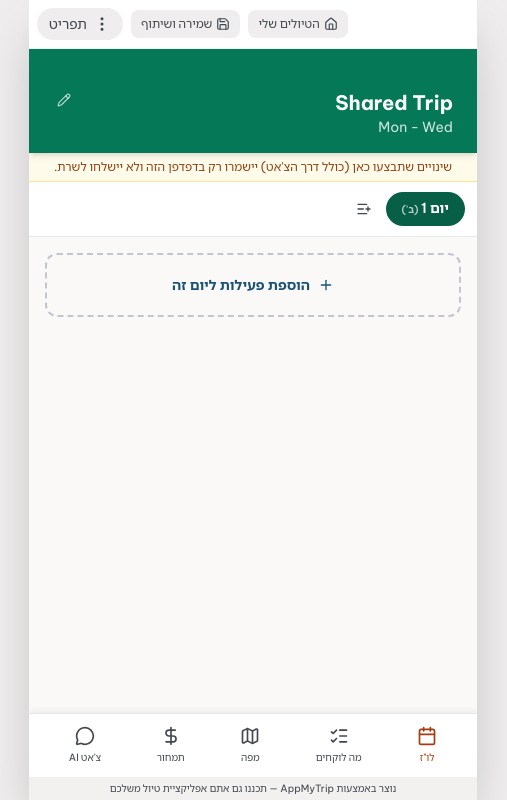
it: App shared-trip viewer activity enrichment › enriches an activity the chat agent adds on a shared link
The width and height of the screenshot is (507, 800).
Check: the heading "Shared Trip" is shown, box left=335, top=89, right=453, bottom=117
Click the button "צ'אט AI" at (85, 746), box left=69, top=726, right=101, bottom=765
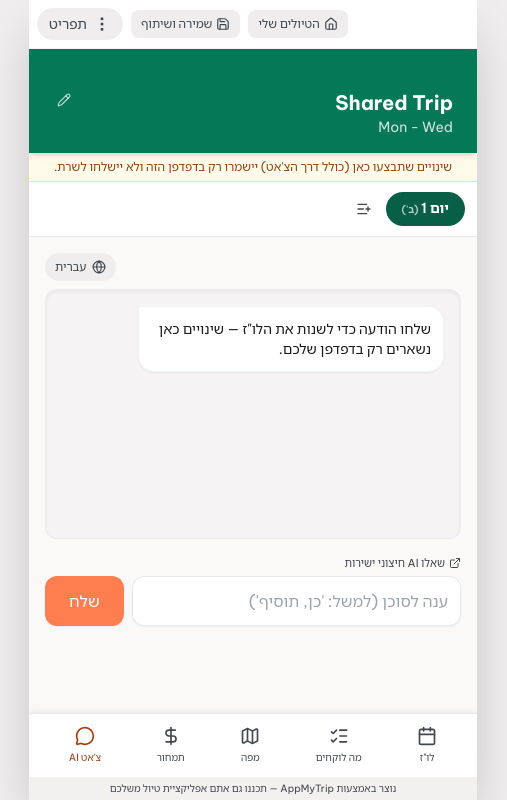
Type "תוסיף מסעדה" into the field with placeholder "ענה לסוכן (למשל: 'כן, תוסיף')" at (296, 600), box left=132, top=576, right=461, bottom=626
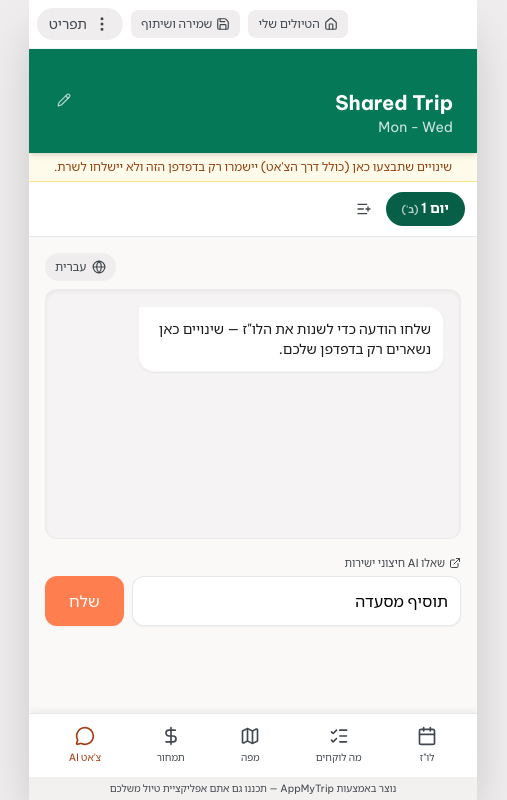
Submit the form with placeholder "ענה לסוכן", box left=45, top=576, right=461, bottom=626
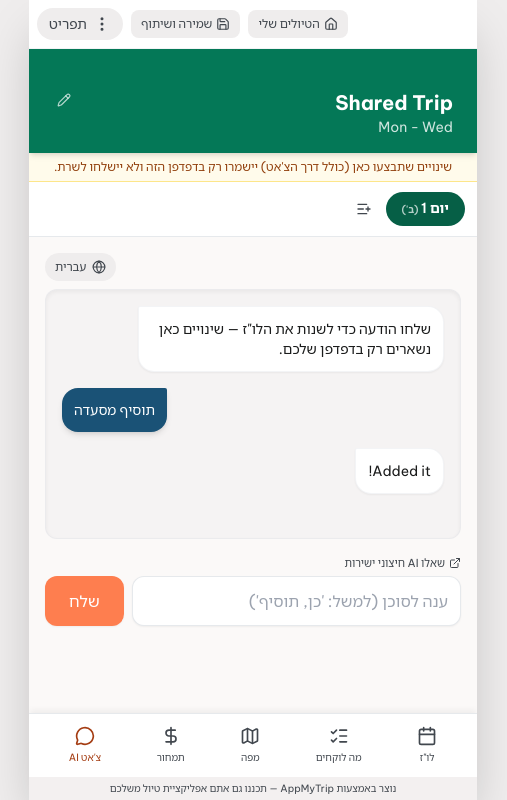
Click the button "לו\"ז" at (427, 746), box left=417, top=726, right=437, bottom=765
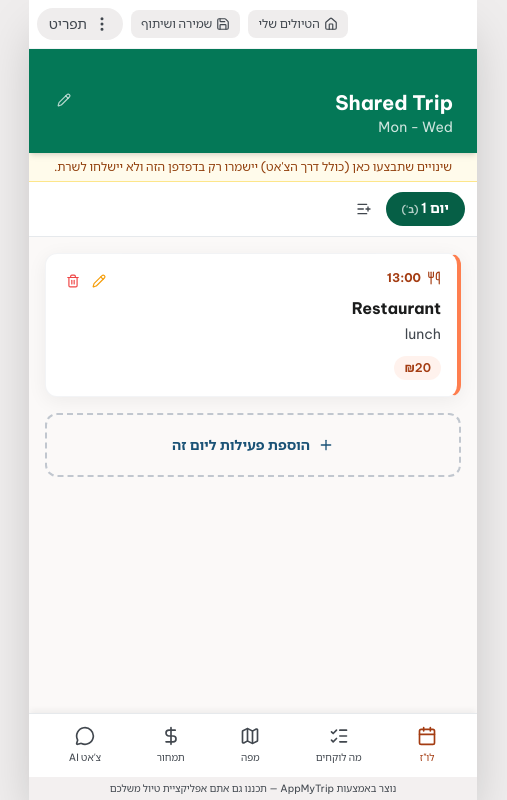
Check: the heading "Restaurant" is shown, box left=352, top=298, right=441, bottom=318
Check: the button "₪20" is shown, box left=394, top=356, right=441, bottom=380
